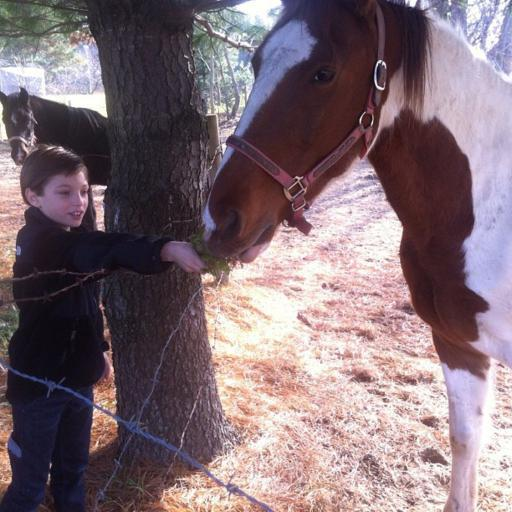horse: (202, 0, 512, 511), (0, 84, 112, 186)
